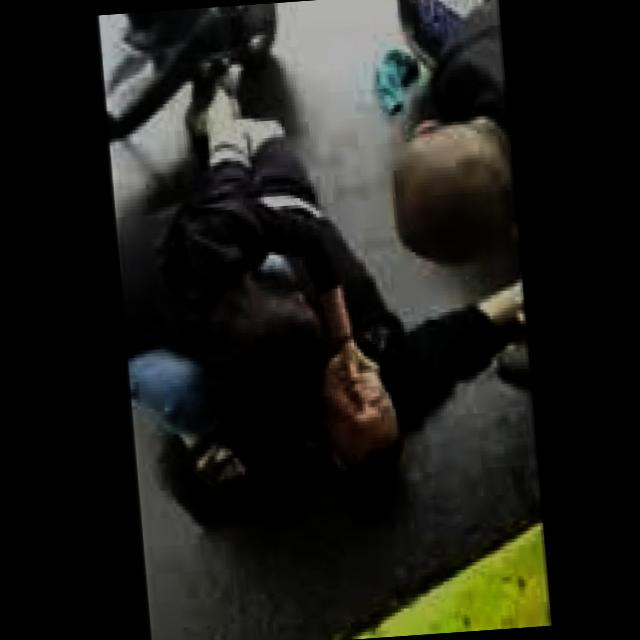Fall-Detected: (112, 48, 553, 512)
